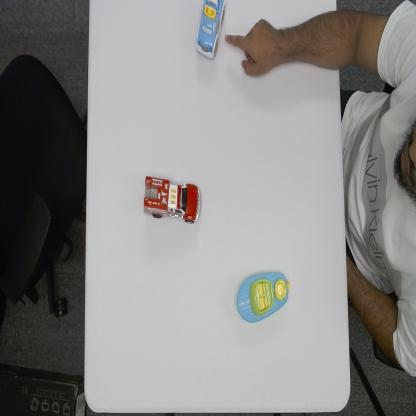Arm: (276, 12, 340, 72)
Boat: (235, 269, 292, 324)
Car: (196, 0, 226, 61)
Firetruck: (142, 174, 203, 226)
Hand: (224, 19, 276, 79)
